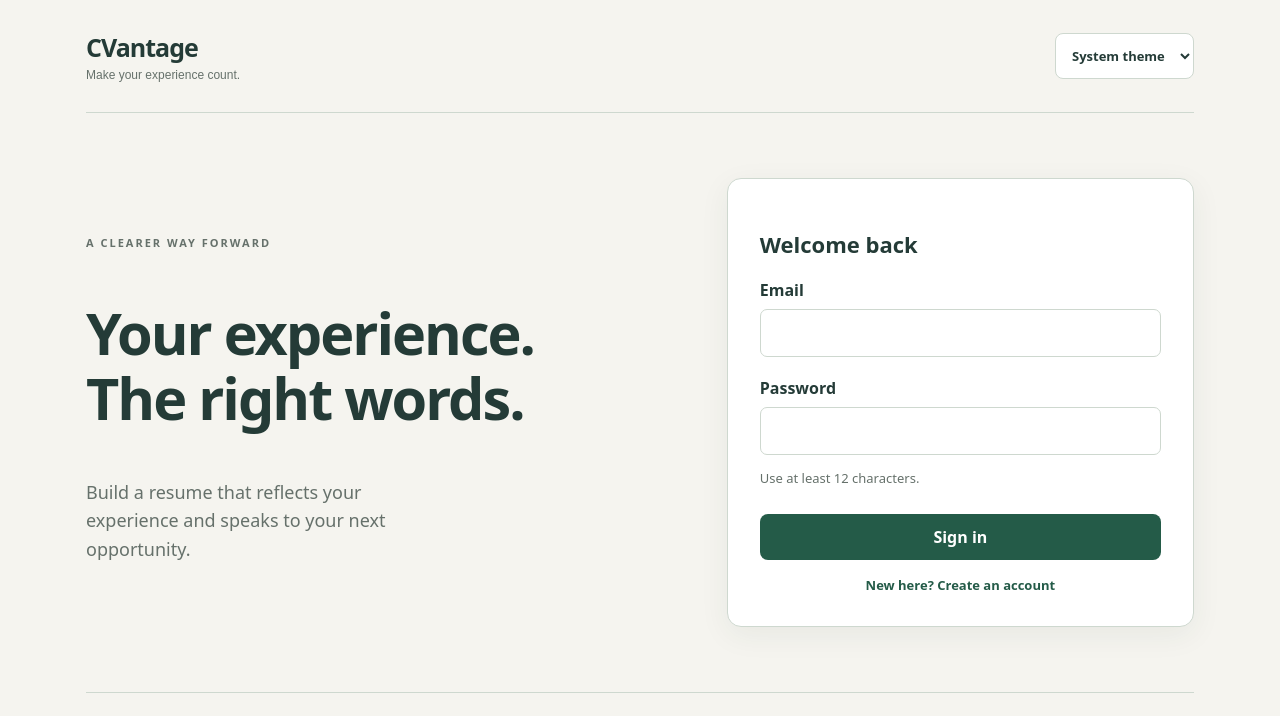
it: shows server errors without entering the workspace
This screenshot has width=1280, height=716.
Type "test@example.test" into the field labelled "Email" at (960, 333), box [760,309,1161,357]
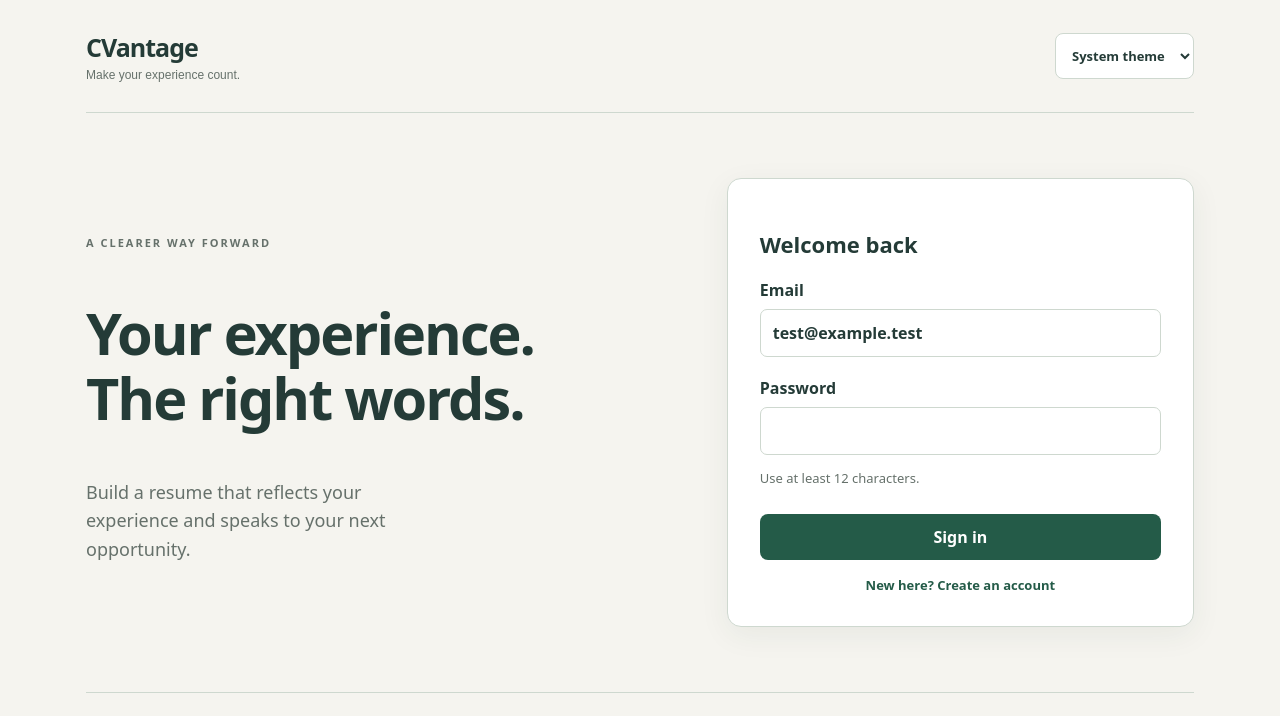
Type "synthetic-password-123" into the password field labelled "Password" at (960, 431), box [760,407,1161,455]
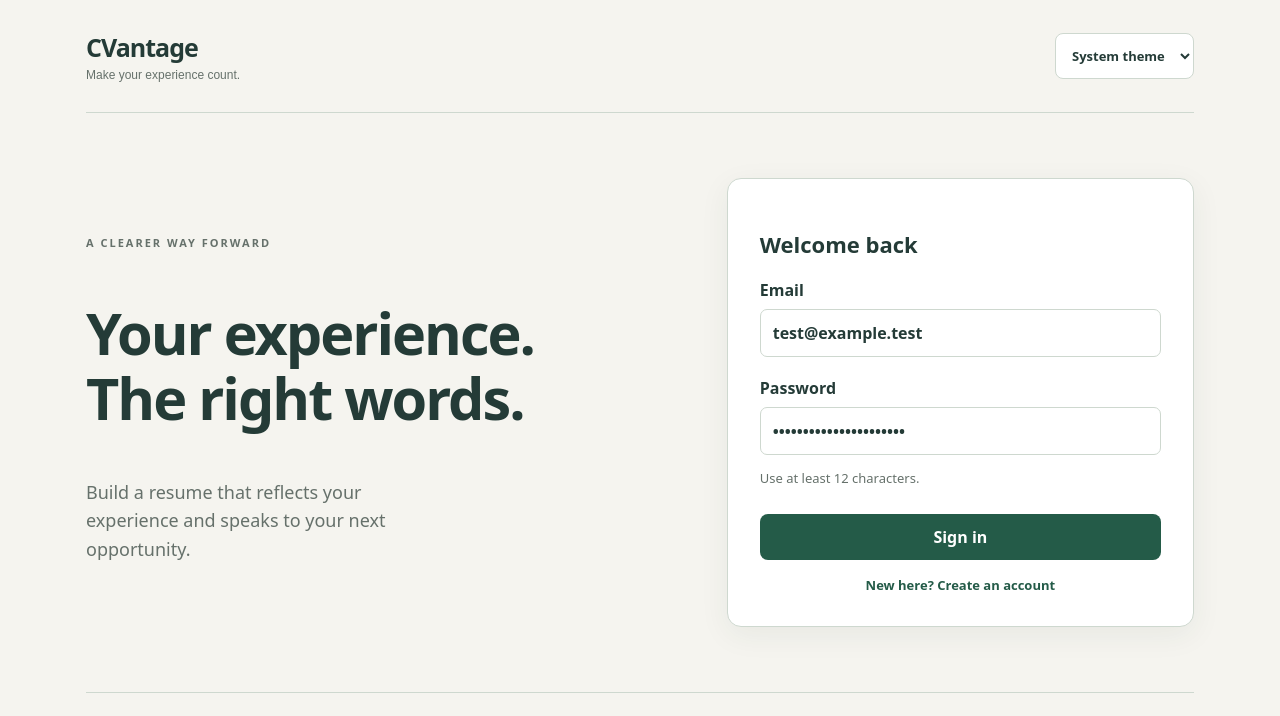
Click the button "Sign in" at (960, 537), box [760,514,1161,560]
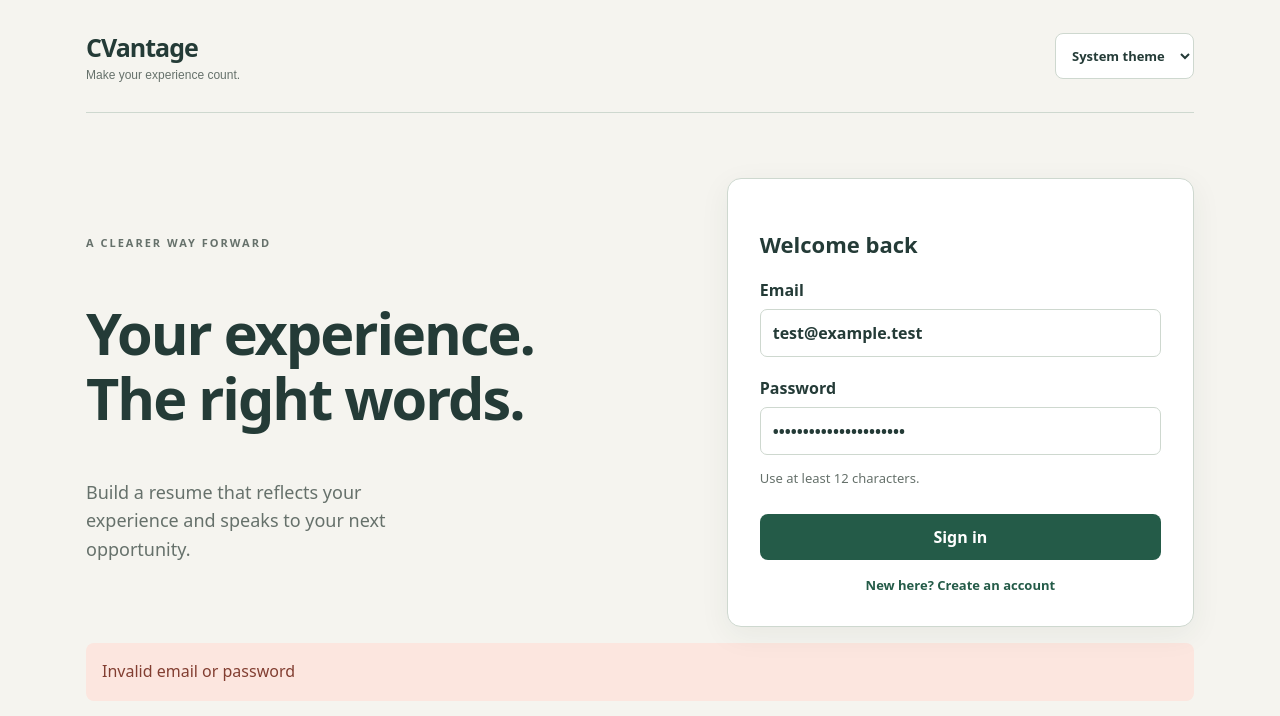
Expected: the message reads "Invalid email or password", [102,660,295,682]
